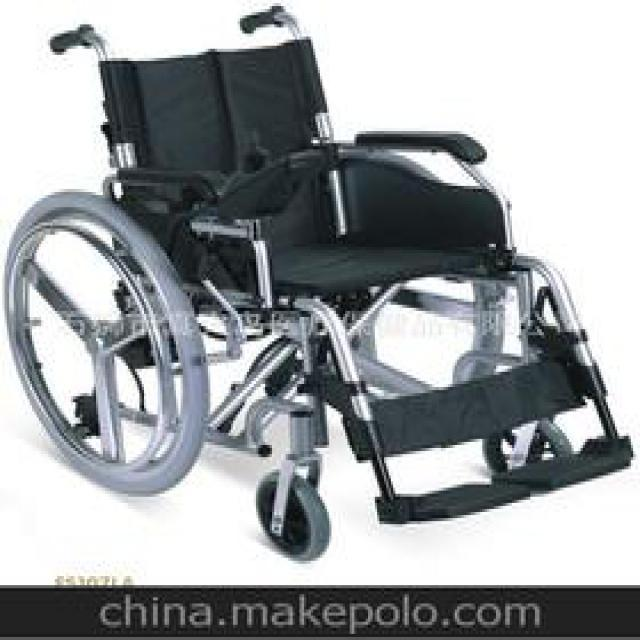wheelchair: (2, 3, 638, 564)
